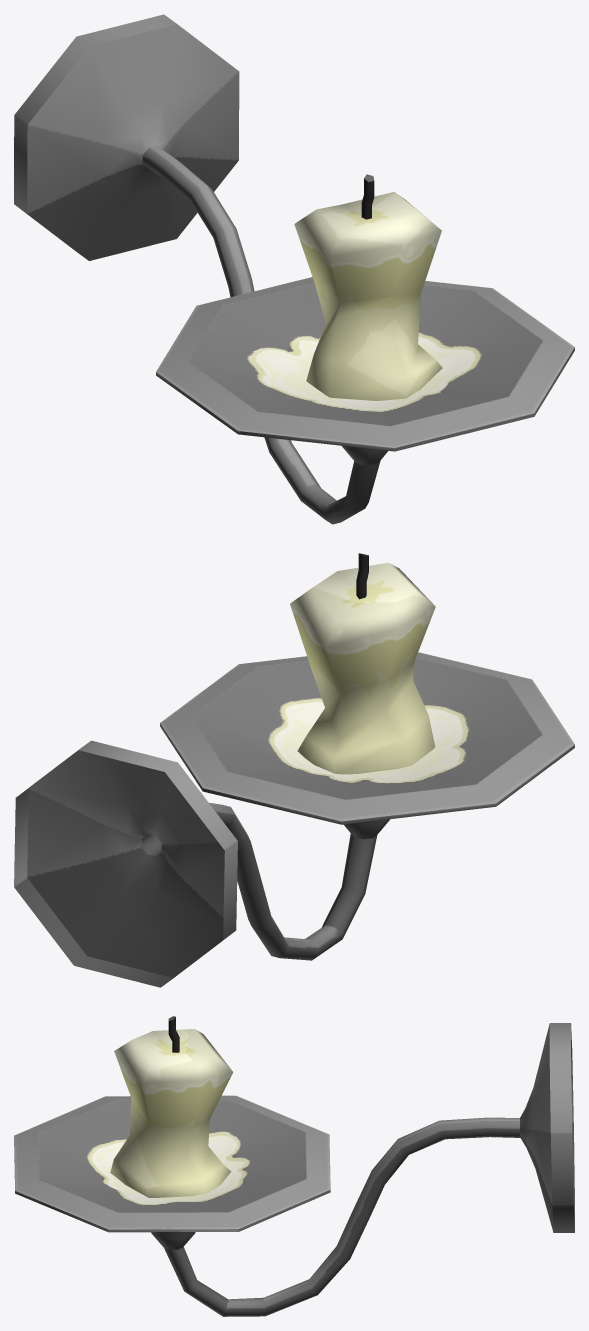
File: candle_wall_complete.fbx
3 views of the same model, one above another, from view 1: azimuth 30°, elevation 25°; view 2: azimuth 150°, elevation 25°; view 3: azimuth 270°, elevation 25° (orthographic). The views are drawn at different scales.
Parts seen in each view (by area): view 1: dish_wall, candle_wall; view 2: dish_wall, candle_wall; view 3: dish_wall, candle_wall.
Part boxes in pixels (x1,y1,x2,y2): dish_wall: (14,14,574,524); candle_wall: (294,192,442,400); dish_wall: (14,652,574,987); candle_wall: (290,562,435,774); dish_wall: (14,1023,574,1316); candle_wall: (110,1029,233,1197).
Bounding box in the file's own units: 38.24 × 39.82 × 67.75.
